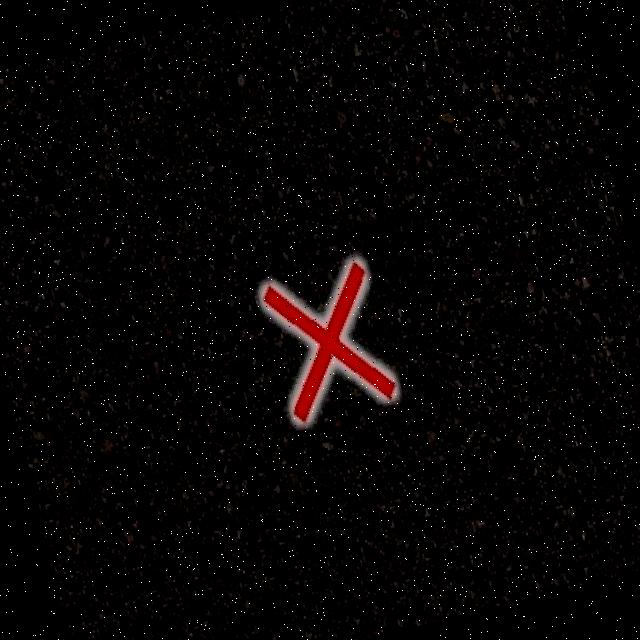x_marker: (258, 259, 396, 422)
